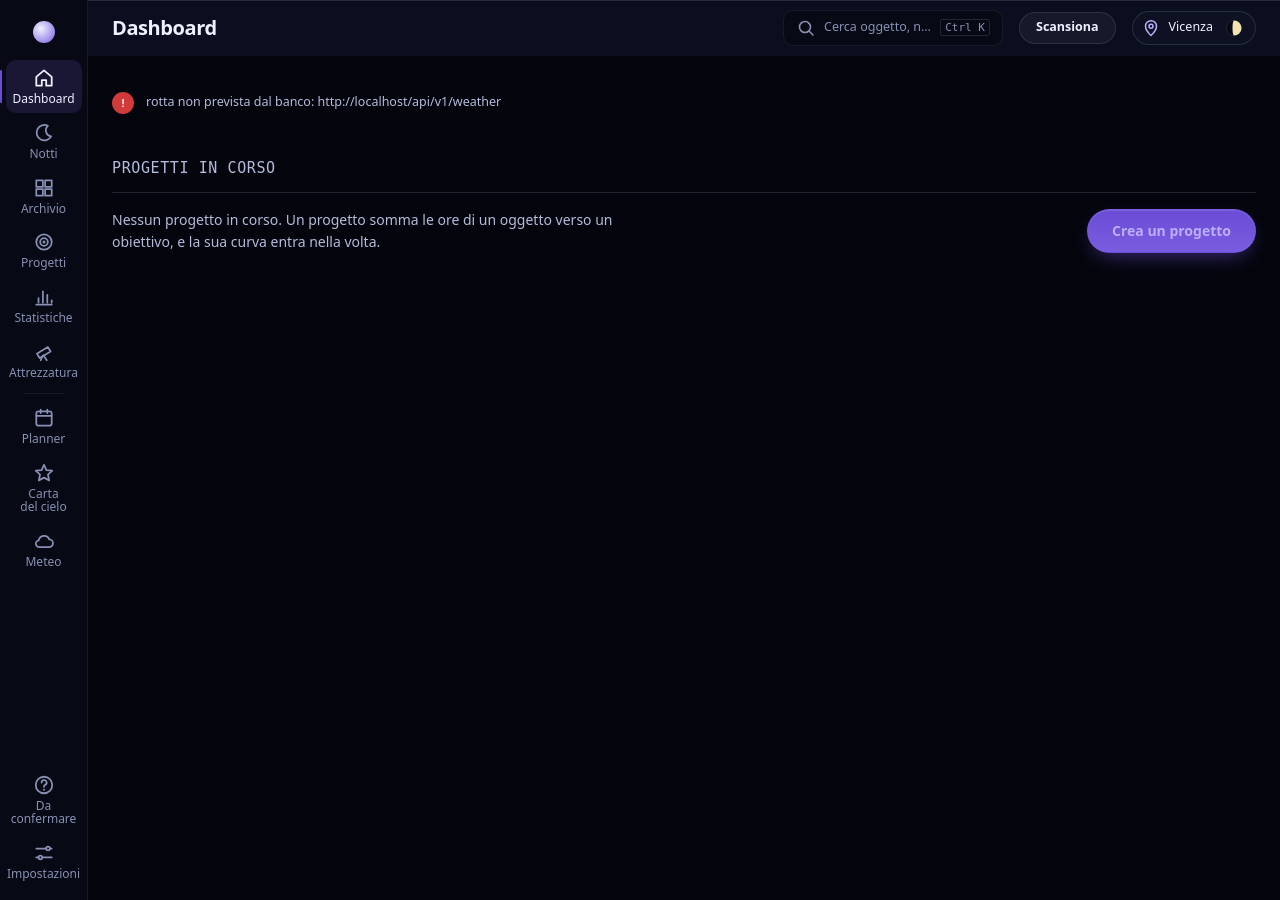
Test: la pastiglia › Esc chiude Stanotte, e il fuoco torna alla pastiglia
Click the button with aria-label "stanotte a vicenza".
click(1194, 28)  # box [1132, 10, 1256, 44]
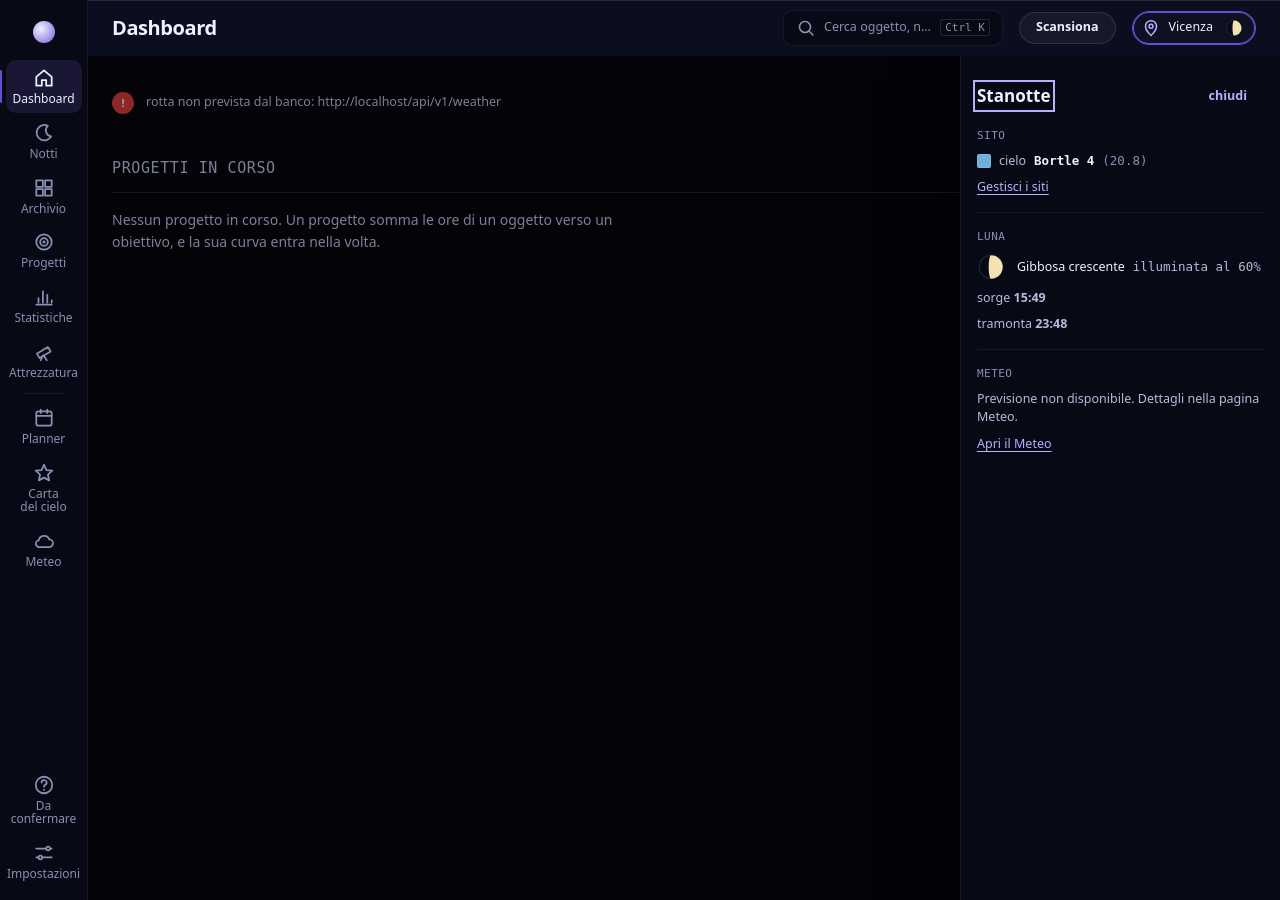
Press Escape in the heading "Stanotte", box [977, 84, 1050, 108]
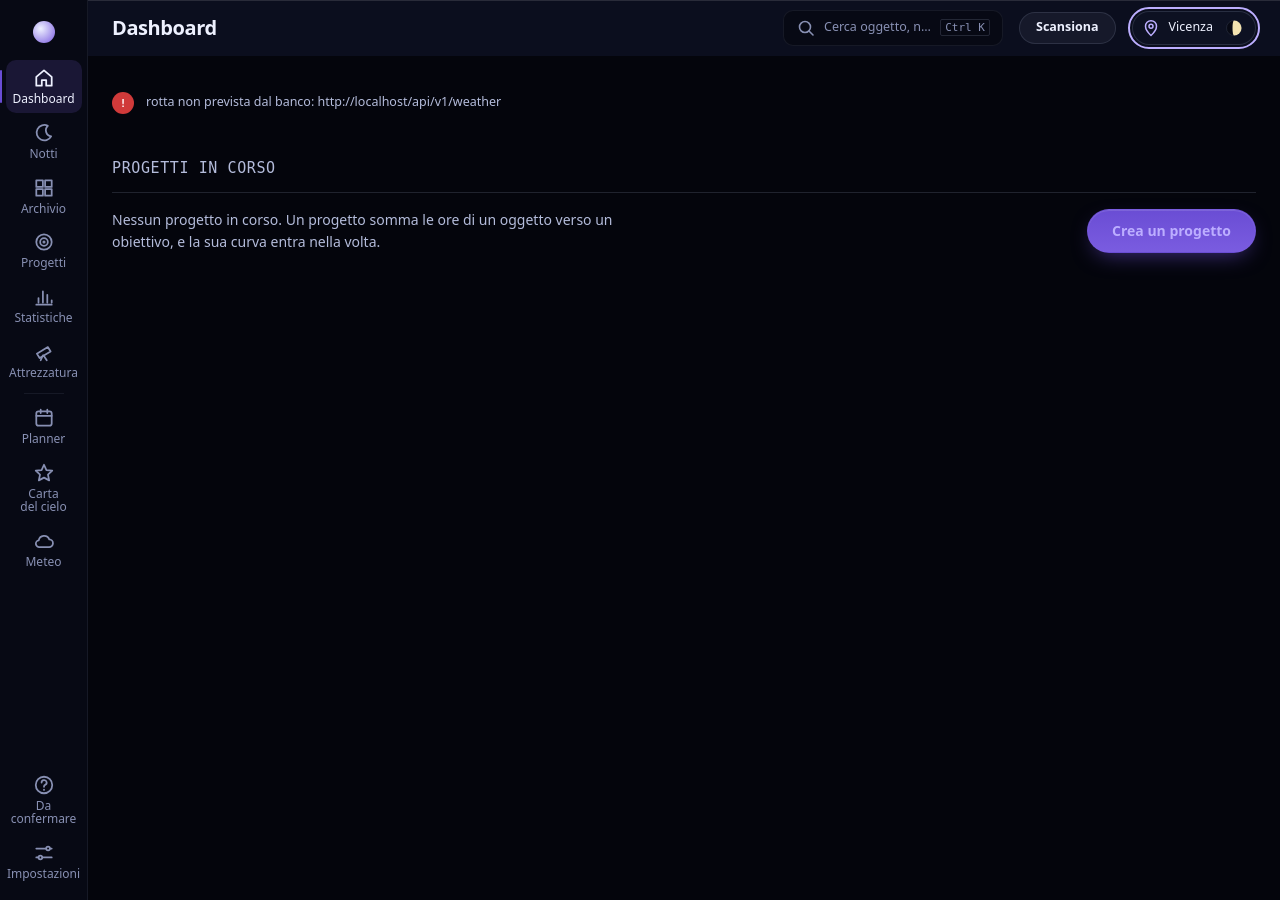
Now the button with aria-label "Stanotte a Vicenza" is collapsed, box [1132, 10, 1256, 44]
Now the heading "Stanotte" is gone
